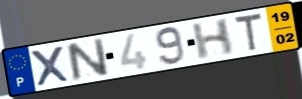4: (119, 32, 150, 71)
9: (155, 24, 188, 68)
H: (190, 16, 235, 62)
N: (63, 36, 111, 83)
T: (232, 11, 264, 53)
X: (28, 44, 73, 88)
